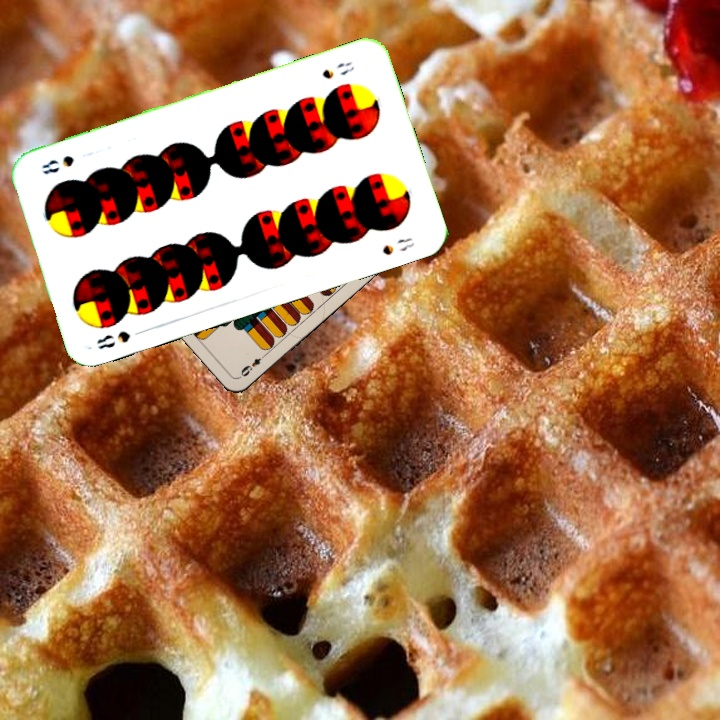E9: (236, 349, 269, 380)
S8: (92, 325, 148, 352), (317, 57, 357, 82)
